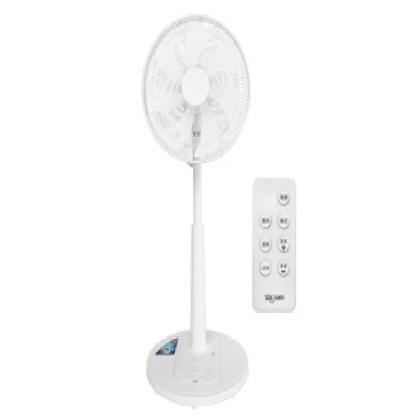fan: (135, 4, 261, 415)
